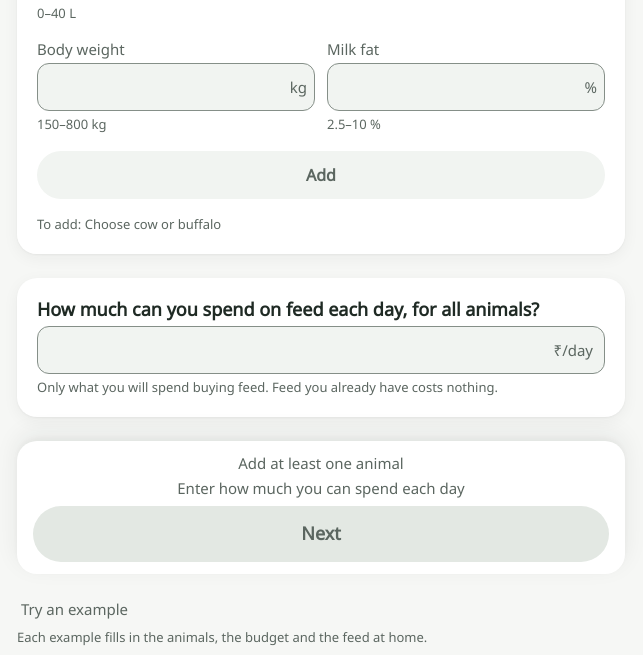
herdUi (Change 4 Milestone 1 UI and 3-screen flow) › Screen 1 gating lines and Next button › shows field error when budget is 0 or negative
(page scrolled)
In the 4th field with class "num": (321, 350) [37, 326, 605, 374], type "0"
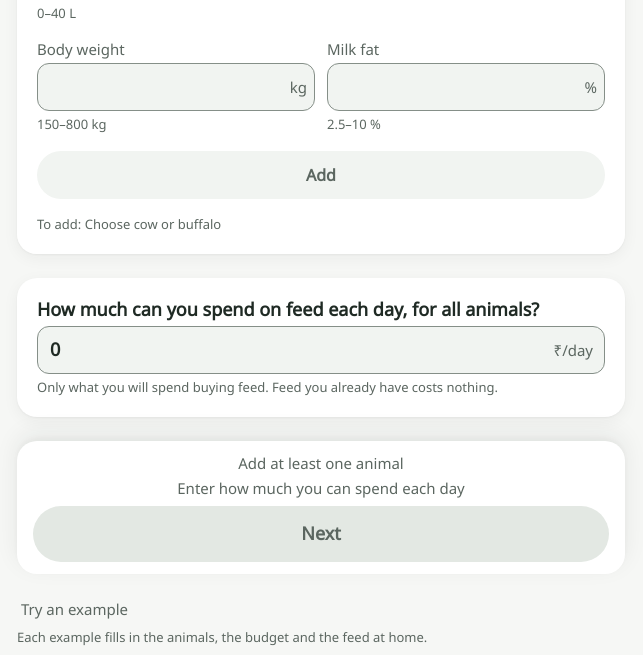
Leave the 4th field with class "num", box [37, 326, 605, 374]
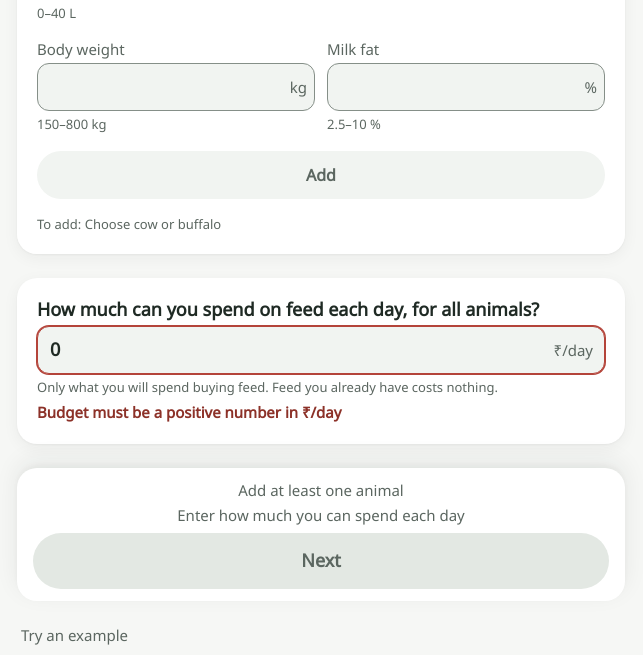
expect the button "Next" is disabled: met, box [33, 532, 609, 588]
expect the text "Budget must be a positive number in ₹/day" is shown: met, box [37, 401, 341, 424]
